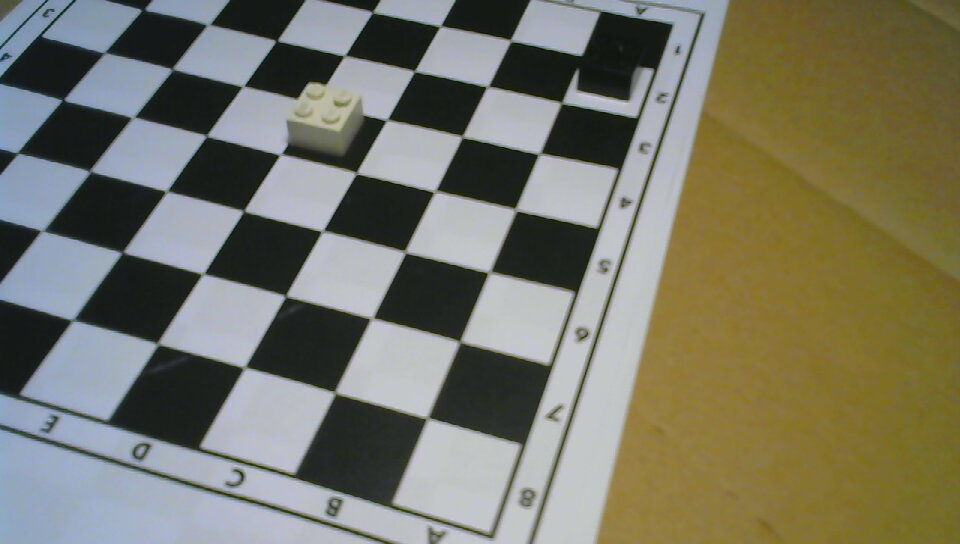bp: (575, 39, 644, 102)
wp: (283, 81, 364, 156)
